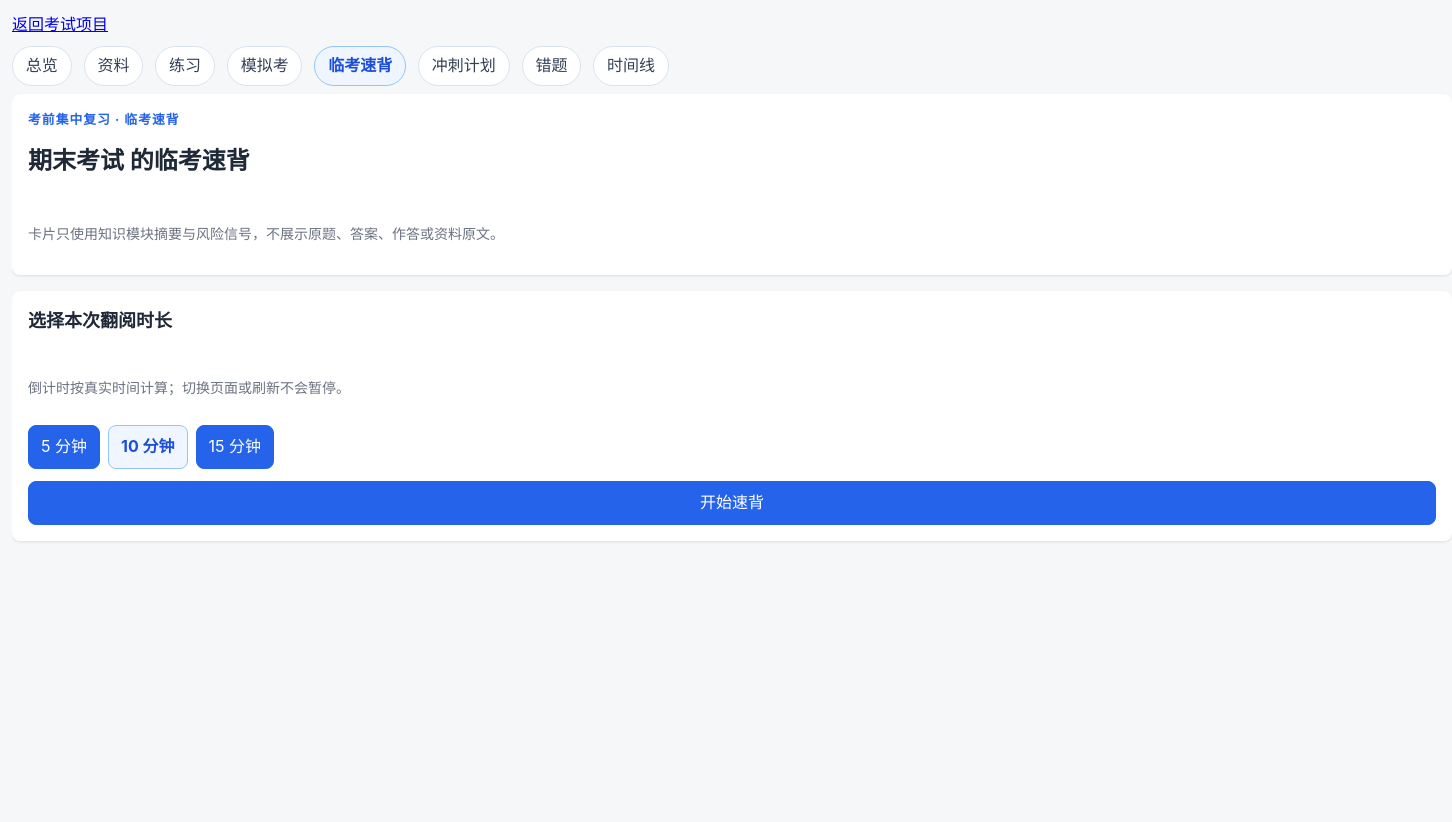
Test: T04 临考速背页面与会话恢复 › starts a default ten-minute session, flips safely, and persists IDs rather than card text
Click the button "开始速背": coordinates (732, 503) x1=28 y1=481 x2=1436 y2=525
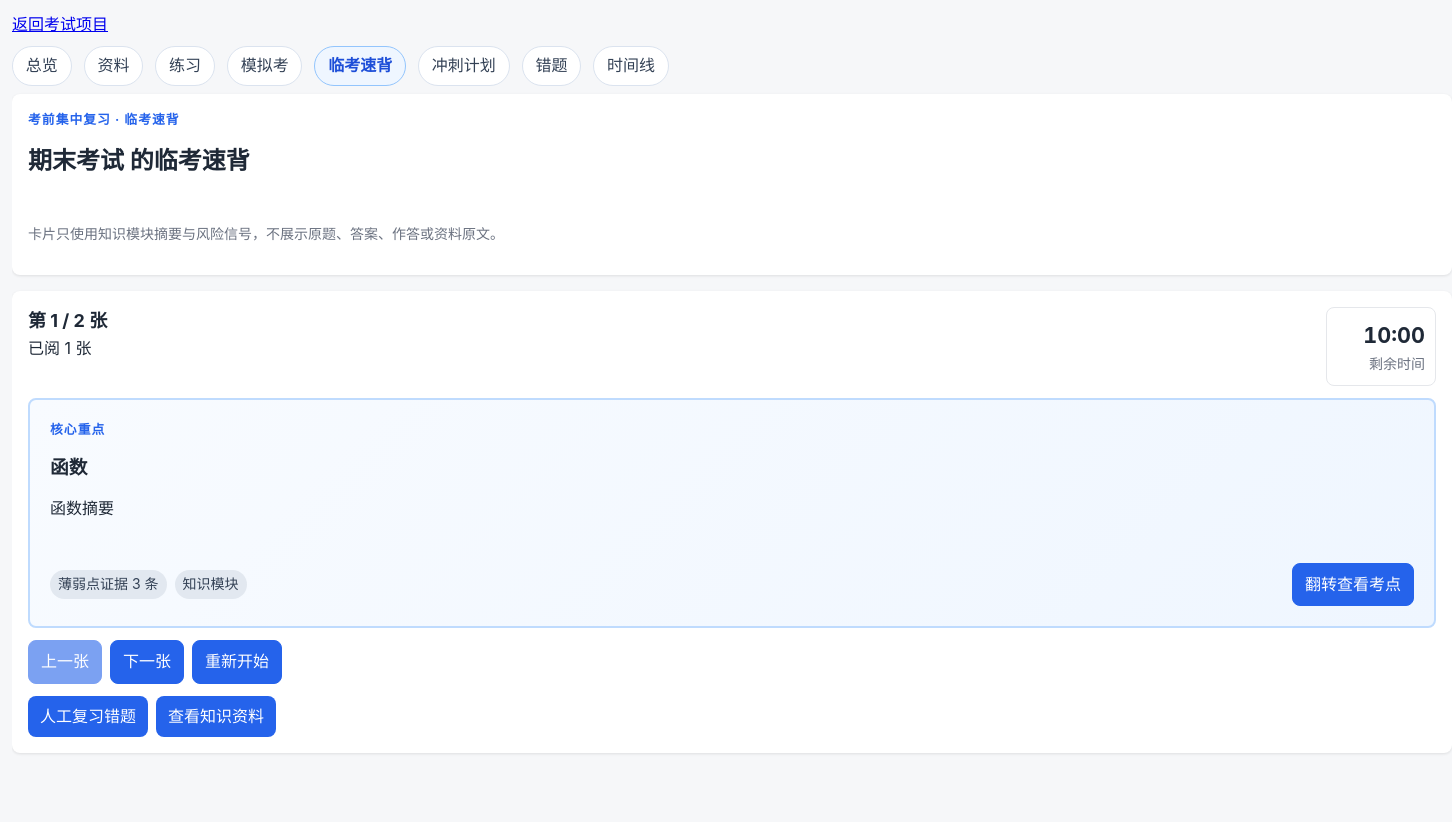
Now the text "第 1 / 2 张" is shown, box x1=28 y1=307 x2=107 y2=336
Click the button "翻转查看考点": coordinates (1353, 584) x1=1292 y1=563 x2=1414 y2=606
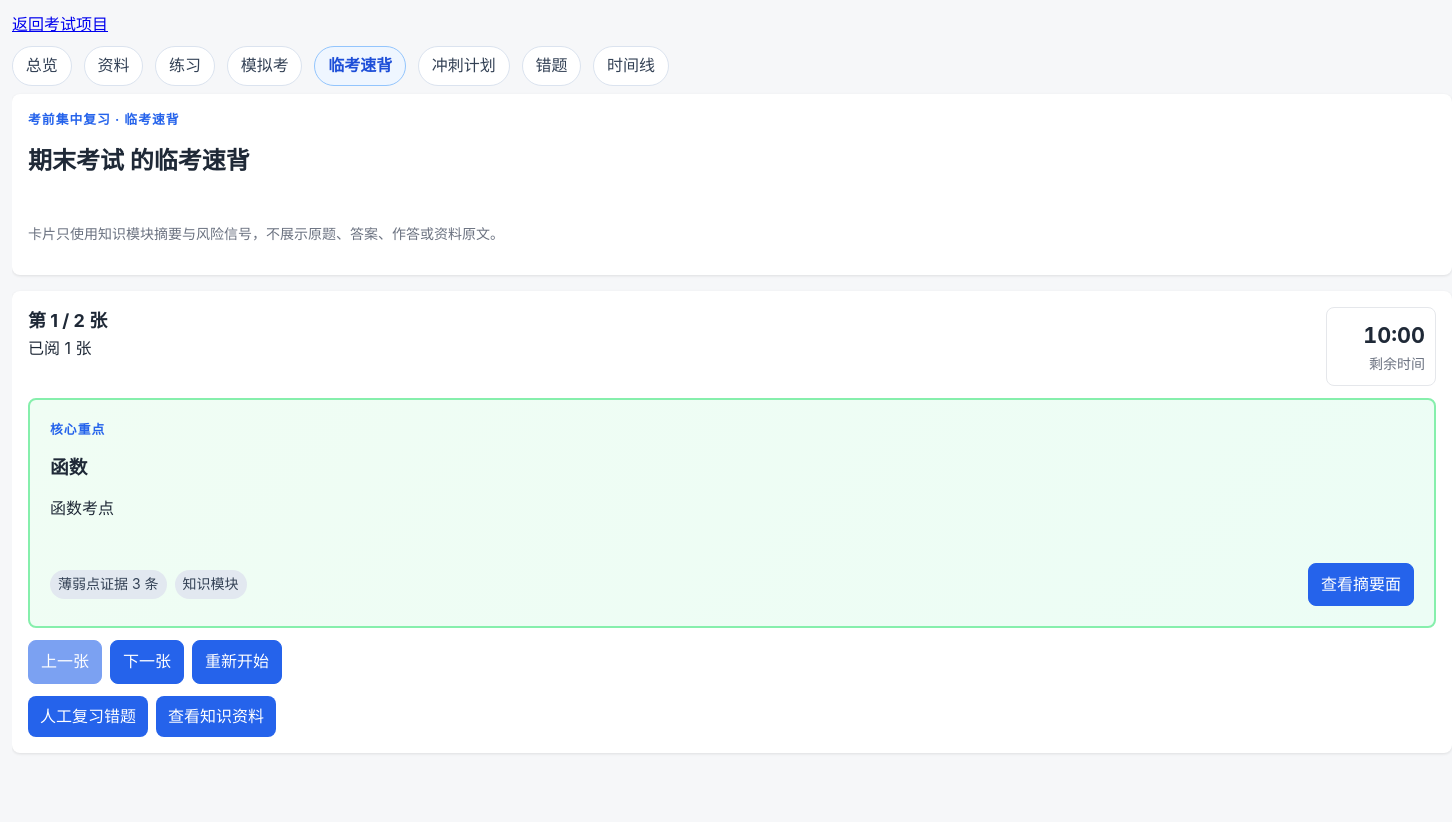
Now the text "函数考点" is shown, box x1=50 y1=498 x2=114 y2=518
